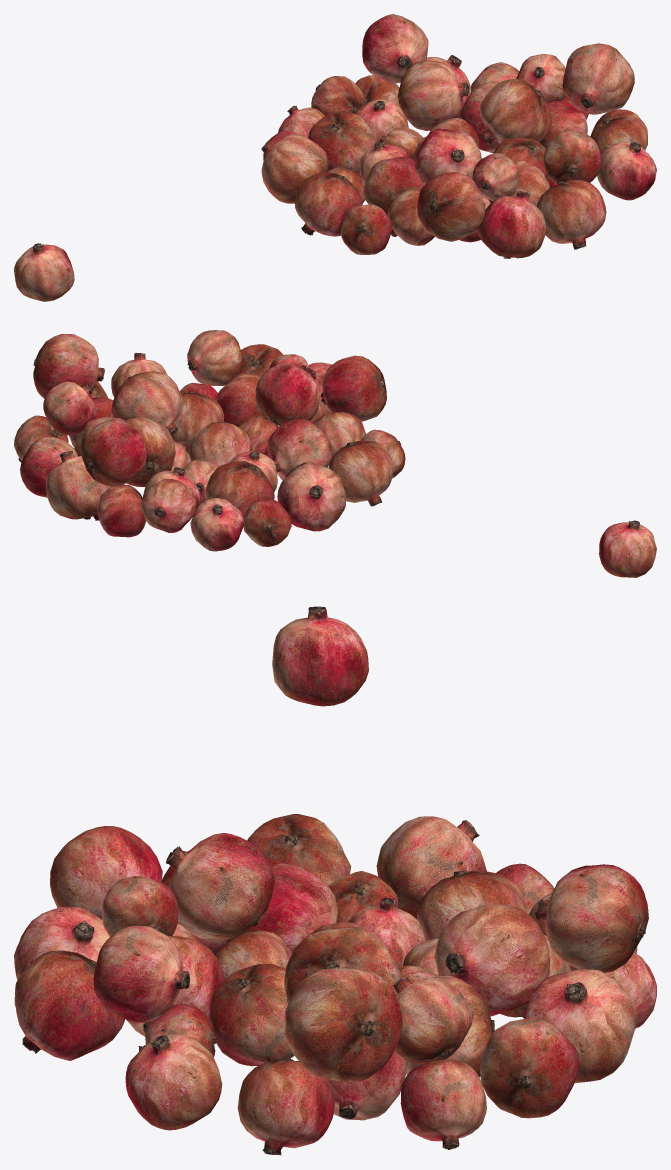
File: Pomegranate.fbx
The picture shows the model from 3 angles, top to bottom: view 1: azimuth 30°, elevation 25°; view 2: azimuth 150°, elevation 25°; view 3: azimuth 270°, elevation 25°; orthographic projection. The views are drawn at different scales.
Parts seen in each view (by area): view 1: PomegranateSingle.036, PomegranateSingle; view 2: PomegranateSingle.036, PomegranateSingle; view 3: PomegranateSingle.036, PomegranateSingle.
Boxes of the visible parts, x1,y1,x2,y2 form: PomegranateSingle.036: [261, 14, 656, 258]; PomegranateSingle: [14, 243, 74, 301]; PomegranateSingle.036: [14, 330, 405, 551]; PomegranateSingle: [599, 520, 656, 577]; PomegranateSingle.036: [14, 814, 656, 1155]; PomegranateSingle: [272, 606, 368, 706].
Size of the model in its own units: 102 by 17.54 by 56.45.
